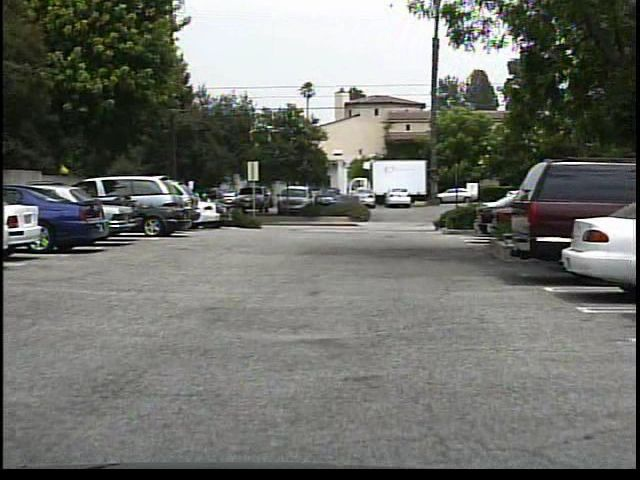person: (206, 192, 219, 224)
